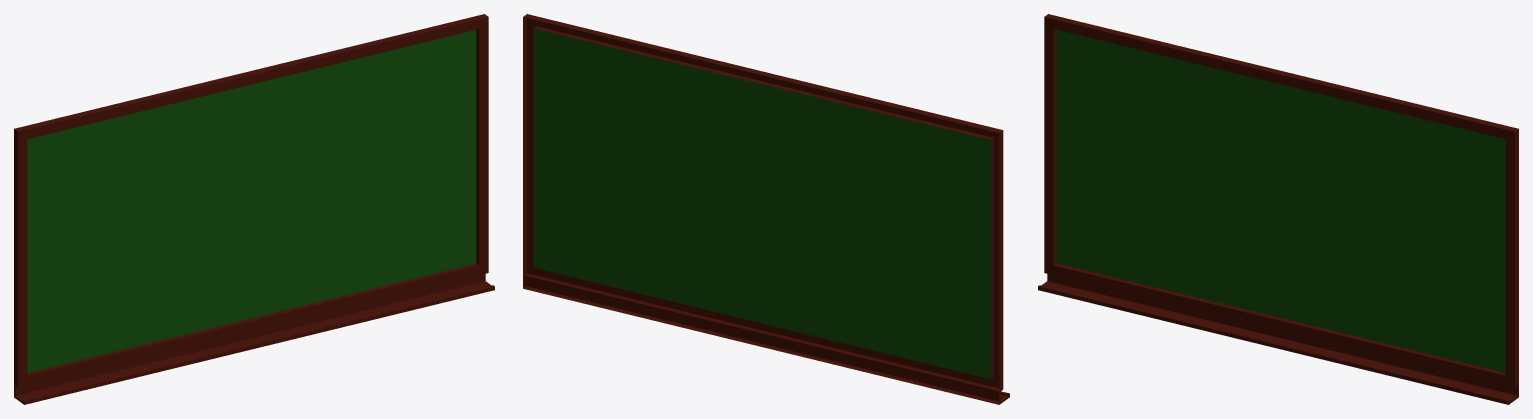
Rendered from Tableau.fbx.
The picture shows the model from 3 angles, left to right: view 1: azimuth 30°, elevation 25°; view 2: azimuth 150°, elevation 25°; view 3: azimuth 330°, elevation 25°; orthographic projection.
Parts seen in each view (by area): view 1: Tableau; view 2: Tableau; view 3: Tableau.
Part boxes in pixels (<box>): Tableau: <box>14,14,494,404</box>; Tableau: <box>523,14,1009,404</box>; Tableau: <box>1038,14,1518,404</box>.
Size of the model in its own units: 250 by 9.53 by 136.
